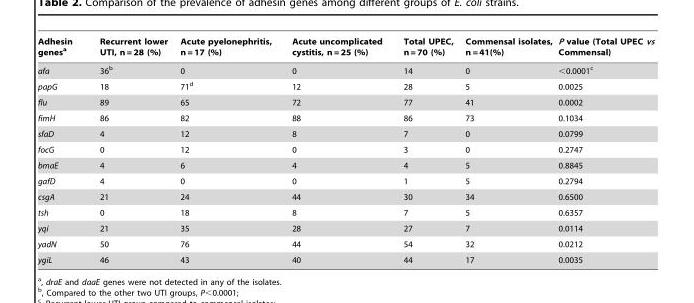table: (37, 36, 655, 264)
table column: (281, 36, 392, 264), (173, 36, 281, 264), (554, 36, 655, 264), (458, 36, 554, 264), (85, 36, 173, 264), (392, 36, 458, 264), (37, 36, 85, 264)
table column header: (37, 36, 655, 60)
table row: (37, 36, 655, 60), (37, 60, 655, 77), (37, 77, 655, 94), (37, 94, 655, 110), (37, 125, 655, 141), (37, 141, 655, 157), (37, 157, 655, 173), (37, 188, 655, 204), (37, 204, 655, 220), (37, 220, 655, 236), (37, 110, 655, 125), (37, 173, 655, 188), (37, 236, 655, 251), (37, 251, 655, 264)
